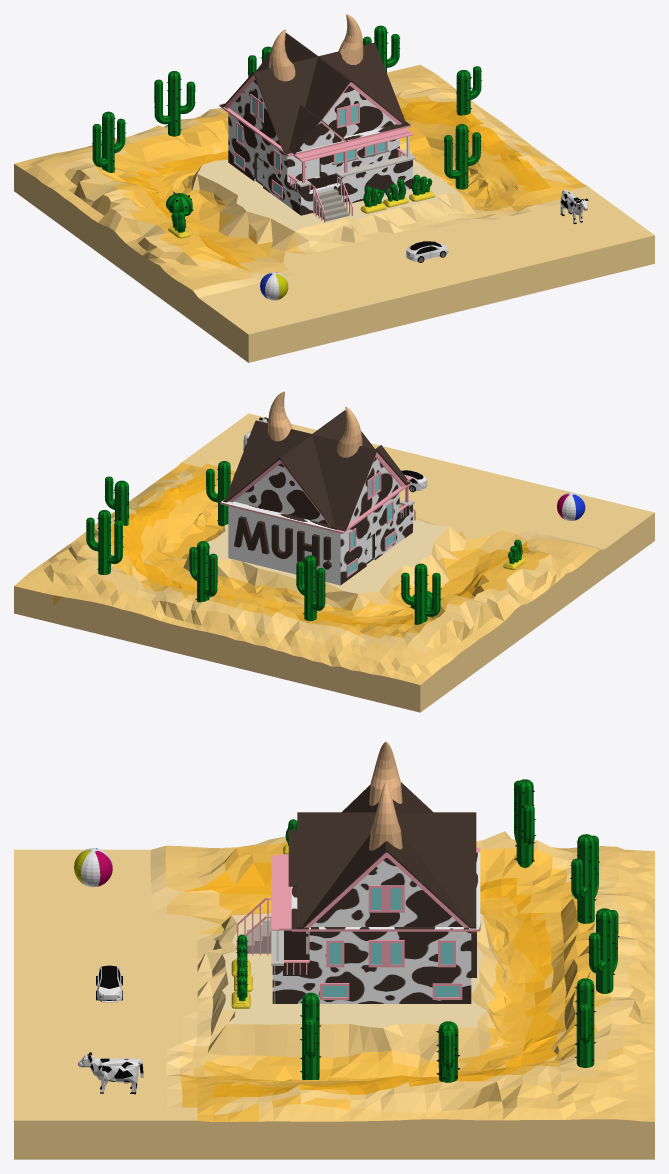
3 renders of one model, top to bottom at view 1: azimuth 30°, elevation 25°; view 2: azimuth 150°, elevation 25°; view 3: azimuth 270°, elevation 25°, orthographic. The views are drawn at different scales.
Visible parts, largest first — view 1: Cube.001, Cube.1242, Cylinder.037, Cylinder.044, Cylinder.045, Cylinder.038, Cylinder.042, VEHICLES_TESLA, OBJRANDOM_BEACHBALL, ANIMAL_VACA, Cylinder.041, Cylinder.039; view 2: Cube.001, Cube.1242, Cylinder.045, Cylinder.042, Cylinder.044, Cylinder.043, Cylinder.037, Cylinder.038, OBJRANDOM_BEACHBALL; view 3: Cube.001, Cube.1242, Cylinder.044, Cylinder.043, Cylinder.045, Cylinder.042, Cylinder.037, ANIMAL_VACA, Cylinder.038, OBJRANDOM_BEACHBALL, VEHICLES_TESLA, Cylinder.041.
Part boxes in pixels (box(x1,y1,x2,y2)): Cube.001: box(14, 64, 654, 362); Cube.1242: box(219, 14, 415, 222); Cylinder.037: box(443, 124, 481, 189); Cylinder.044: box(154, 71, 195, 136); Cylinder.045: box(92, 111, 126, 172); Cylinder.038: box(456, 66, 481, 115); Cylinder.042: box(363, 25, 400, 72); VEHICLES_TESLA: box(406, 241, 448, 262); OBJRANDOM_BEACHBALL: box(260, 272, 288, 300); ANIMAL_VACA: box(560, 189, 588, 223); Cylinder.041: box(409, 174, 434, 201); Cylinder.039: box(360, 186, 386, 213); Cube.001: box(14, 413, 654, 712); Cube.1242: box(220, 391, 415, 585); Cylinder.045: box(400, 563, 441, 624); Cylinder.042: box(86, 510, 123, 574); Cylinder.044: box(296, 555, 325, 620); Cylinder.043: box(189, 541, 217, 602); Cylinder.037: box(206, 461, 235, 526); Cylinder.038: box(105, 476, 129, 525); OBJRANDOM_BEACHBALL: box(557, 492, 585, 520); Cube.001: box(14, 831, 654, 1159); Cube.1242: box(236, 741, 480, 1003); Cylinder.044: box(570, 834, 599, 923); Cylinder.043: box(588, 908, 618, 993); Cylinder.045: box(514, 779, 535, 867); Cylinder.042: box(574, 978, 595, 1067); Cylinder.037: box(300, 992, 321, 1079); ANIMAL_VACA: box(78, 1052, 143, 1094); Cylinder.038: box(436, 1021, 460, 1082); OBJRANDOM_BEACHBALL: box(74, 848, 112, 887); VEHICLES_TESLA: box(96, 965, 122, 1002); Cylinder.041: box(231, 966, 250, 1008).
Bounding box in the file's own units: 4002 × 1886 × 4001.
Materials: 37 (2 with a texture image).
